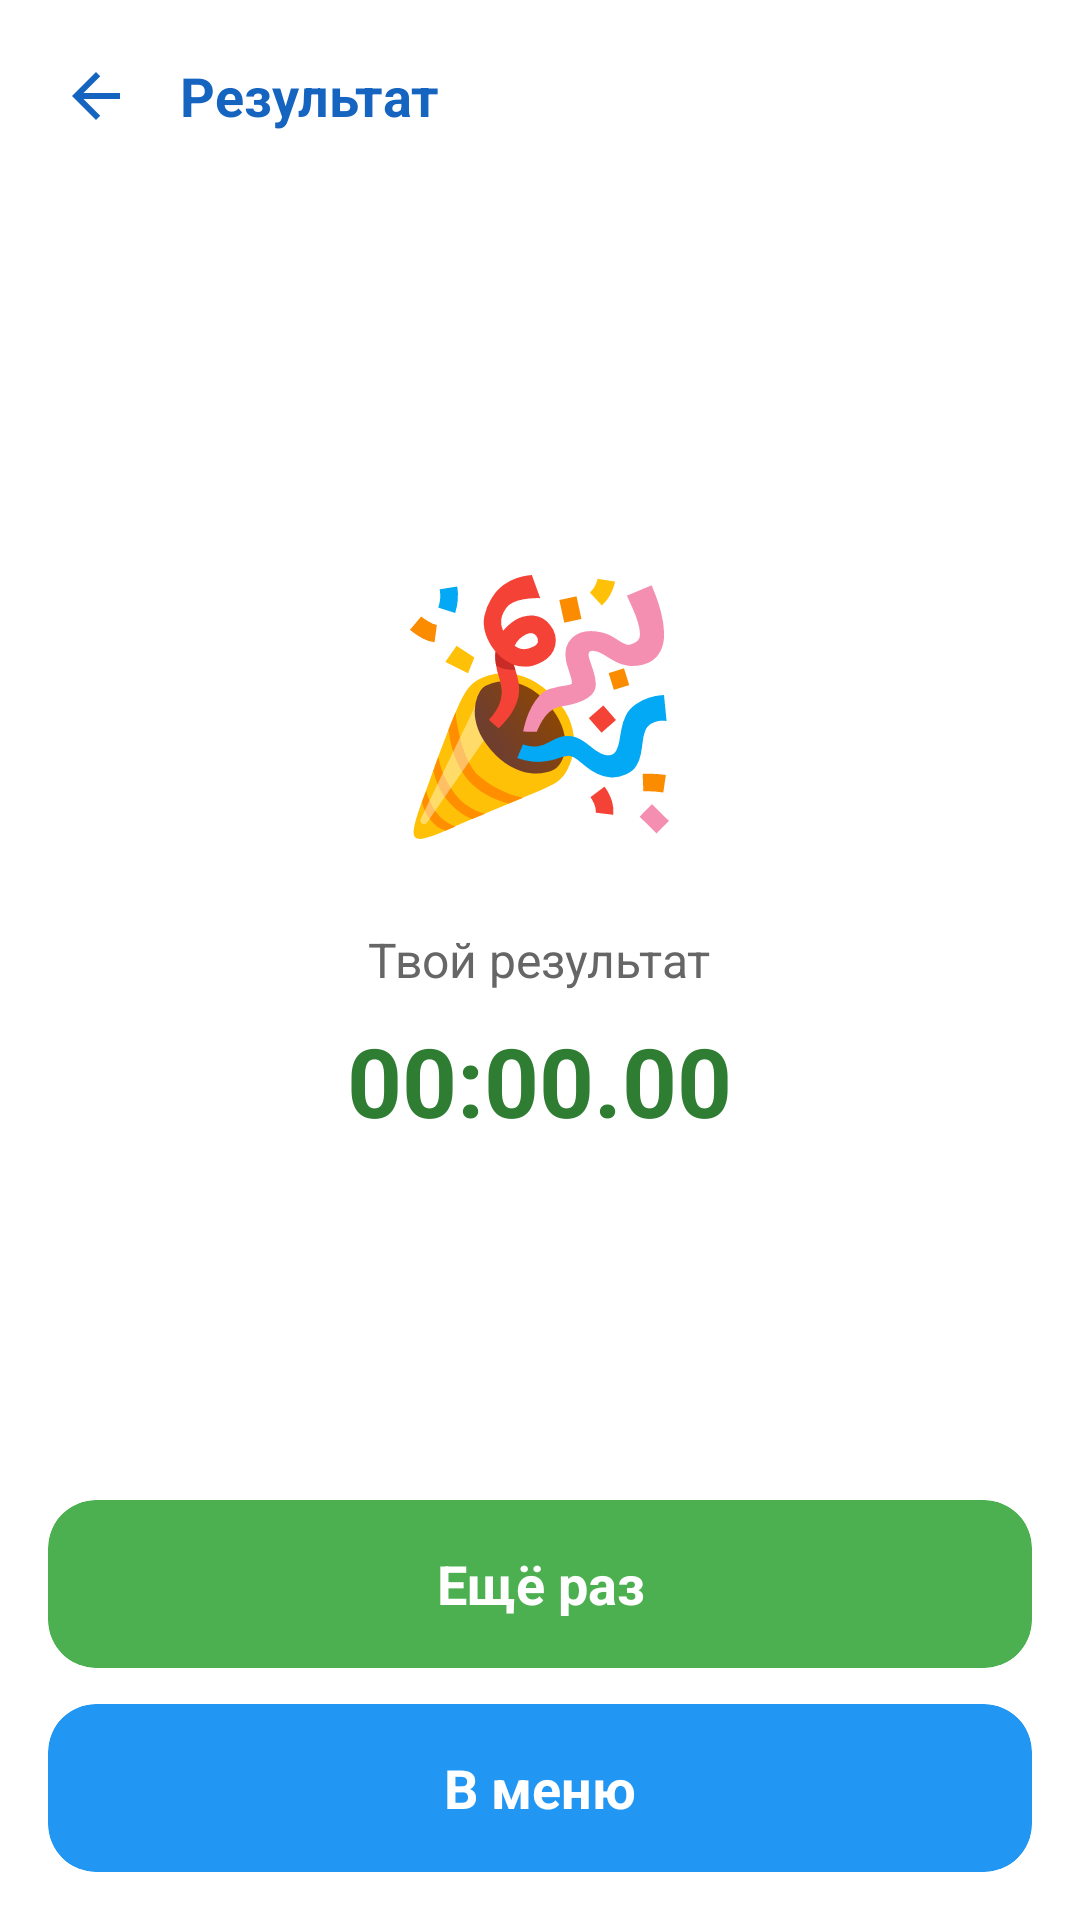

Named icons in this screenshot (1080x1920) and their centers, [x,y]:
Назад: [96,96]
